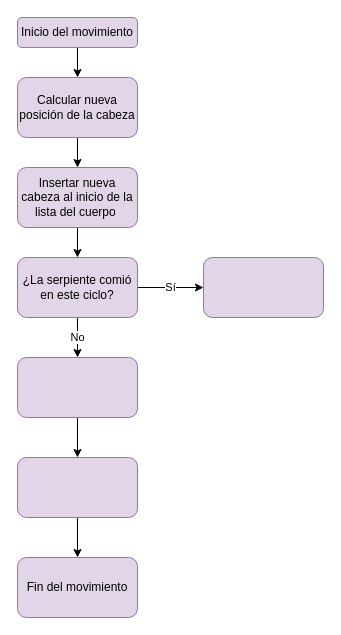
The diagram is 341 pixels wide and 635 high, and some of its shapes have lost their labels. Each missing label, with the centre of its shape:
Actualizar variable de "comió" a falso para el próximo ciclo.: point (77, 487)
Eliminar la cola (el último elemento de la lista): point (77, 387)
NO eliminar la cola de la serpiente (para que crezca): point (263, 287)
